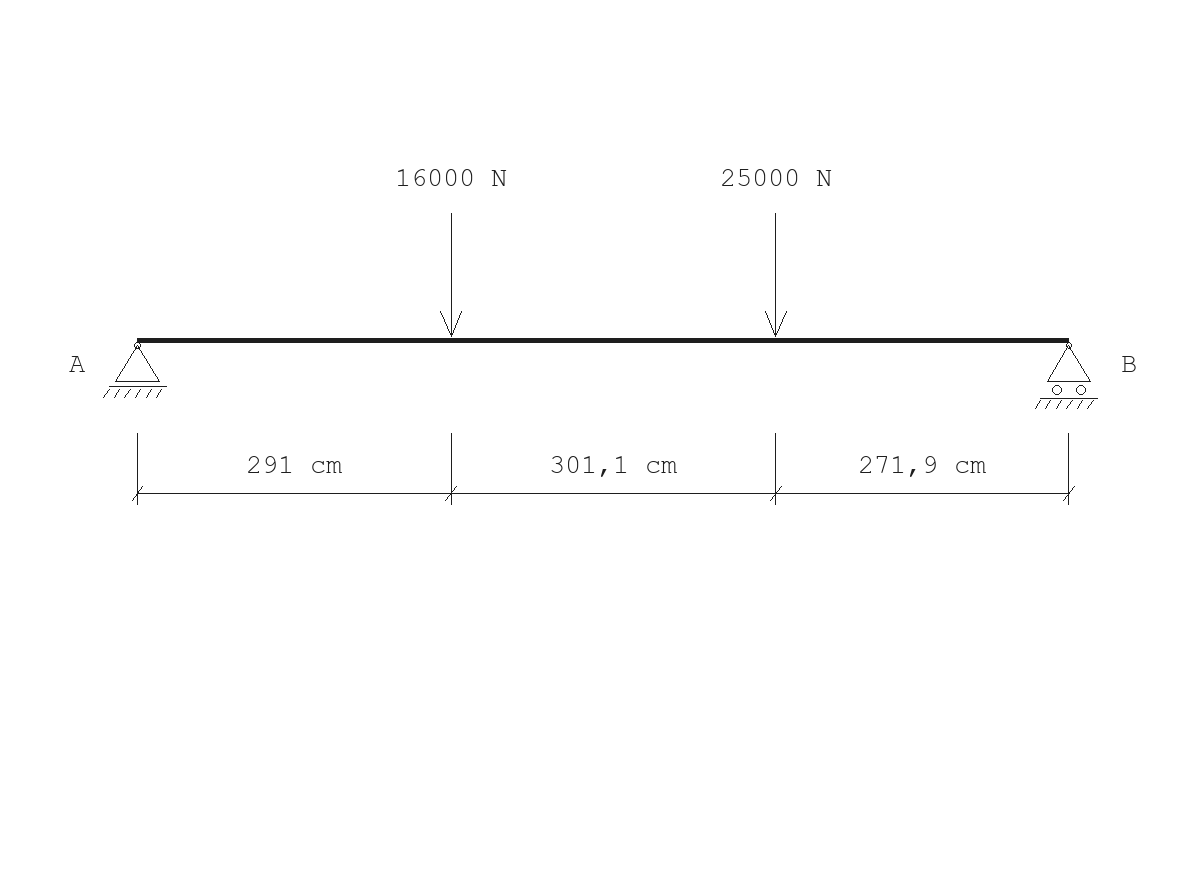pin_support: (103, 342, 167, 398)
point_load: (440, 213, 462, 337), (765, 213, 787, 337)
roller_support: (1035, 342, 1098, 409)
